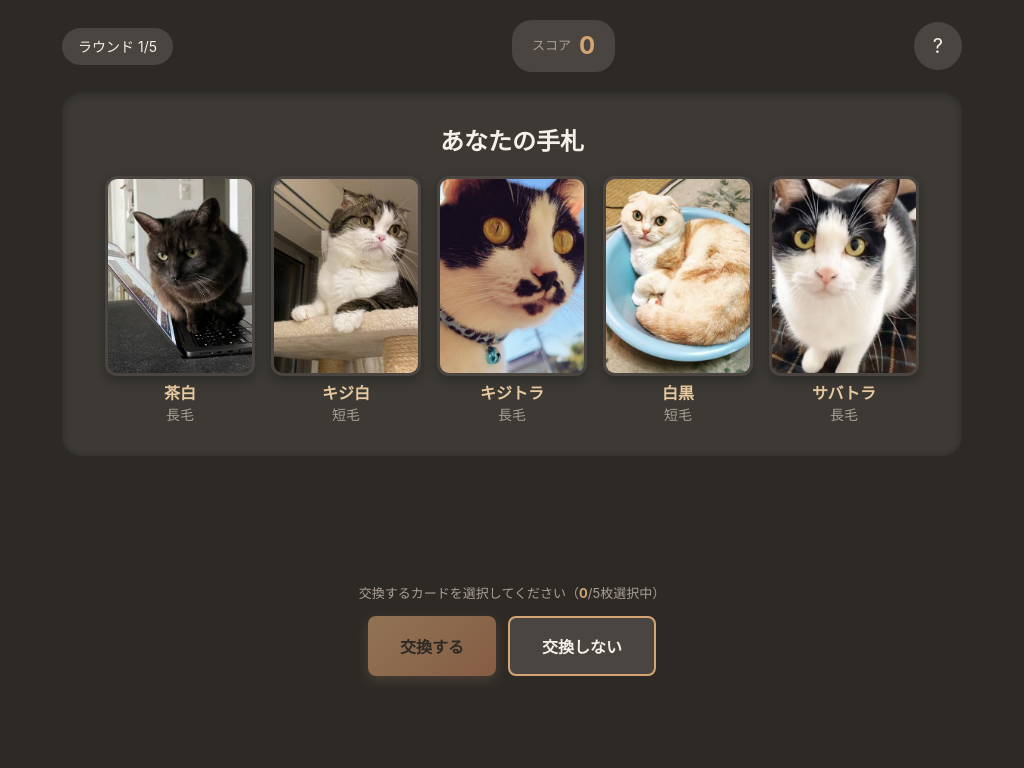
Test: GameScreen › Card click and exchange flow › limits card selection to maximum allowed (5 cards)
The width and height of the screenshot is (1024, 768).
Click the 2nd button: (180, 276) [105,176,255,376]
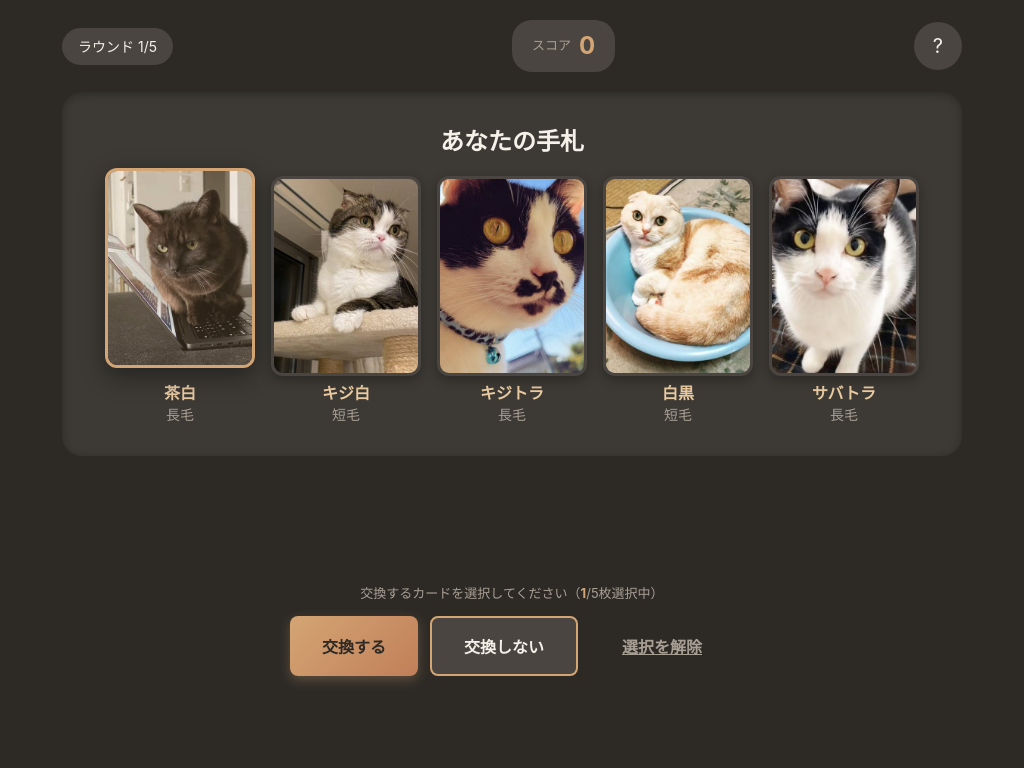
Click the 3rd button: (346, 276) [271,176,421,376]
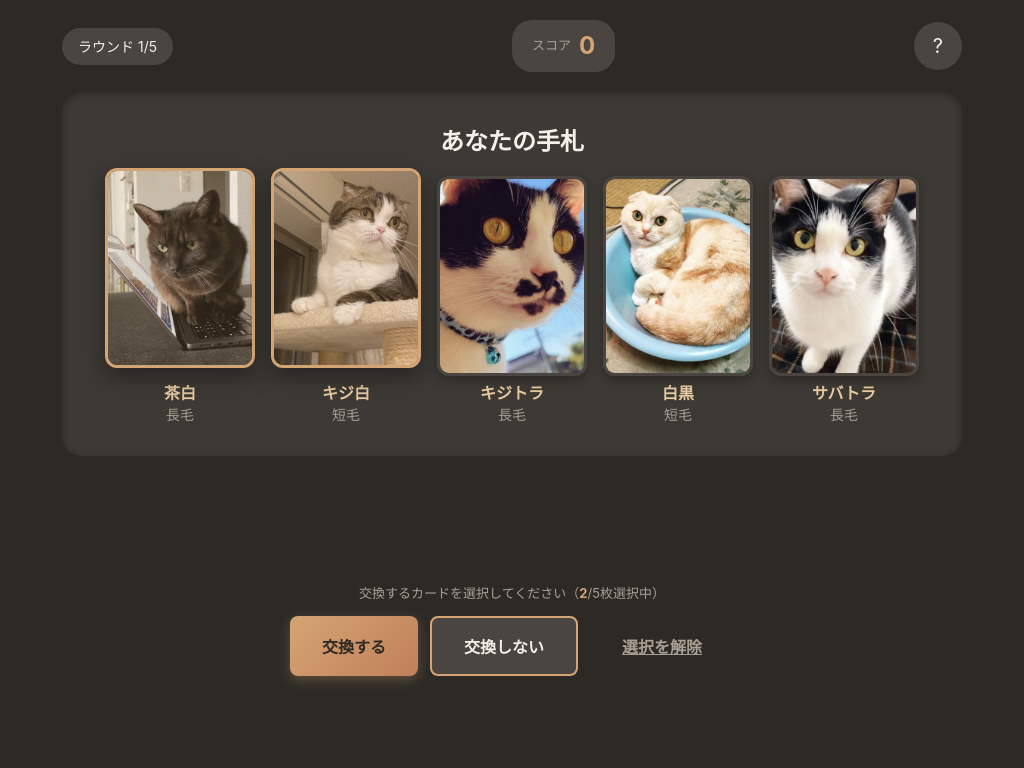
Click the 4th button: (512, 276) [437,176,587,376]
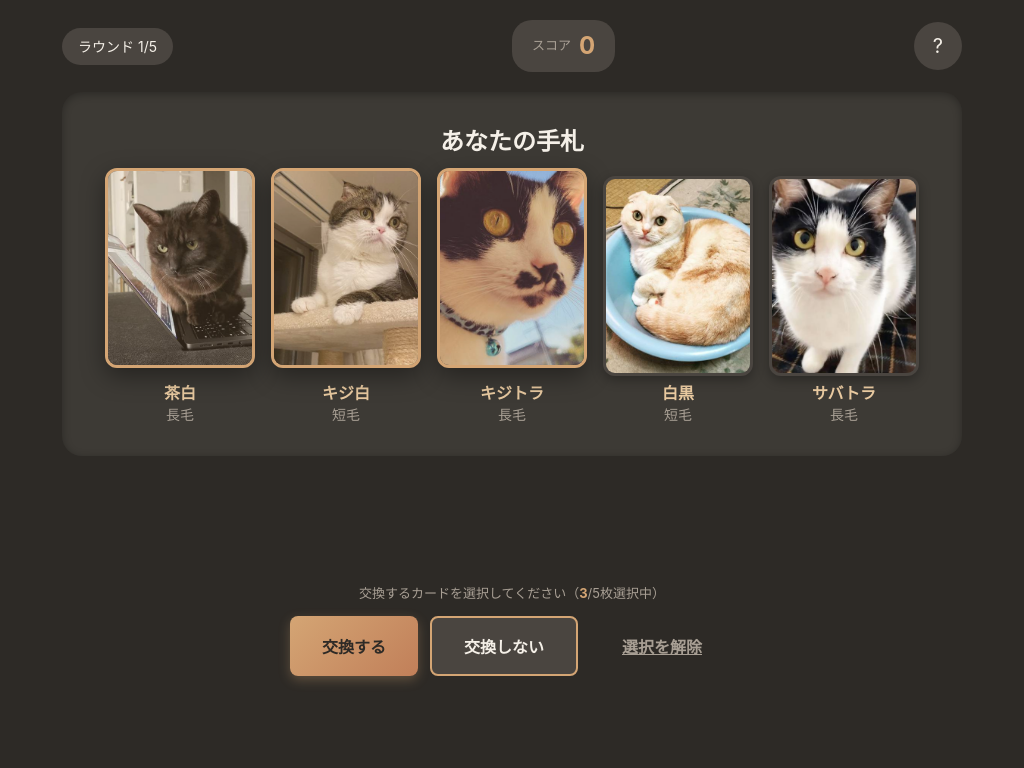
Click the 5th button: (678, 276) [603,176,753,376]
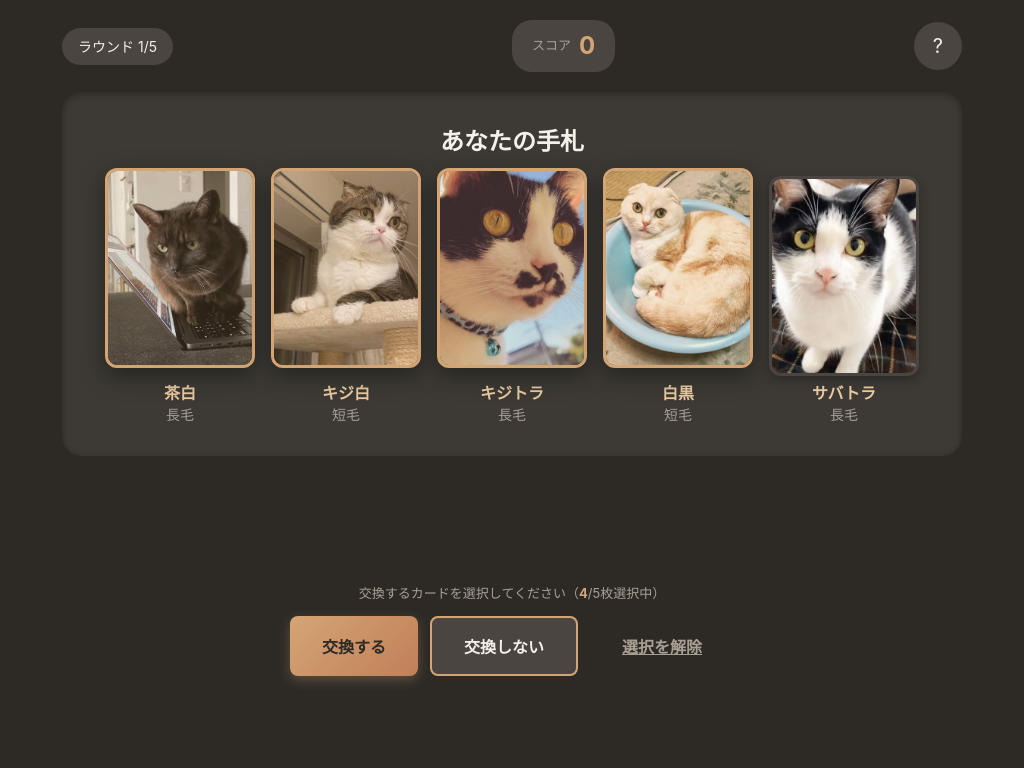
Click the 6th button: (844, 276) [769,176,919,376]
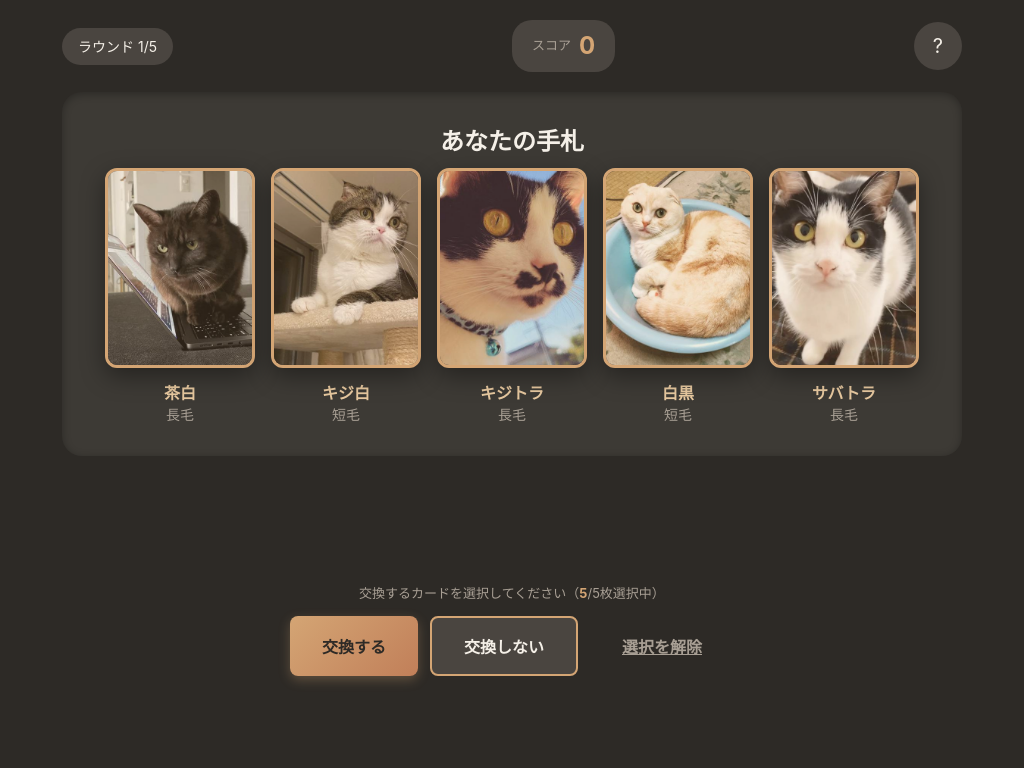
Expected: the text "5" is shown, [579,585,587,601]
